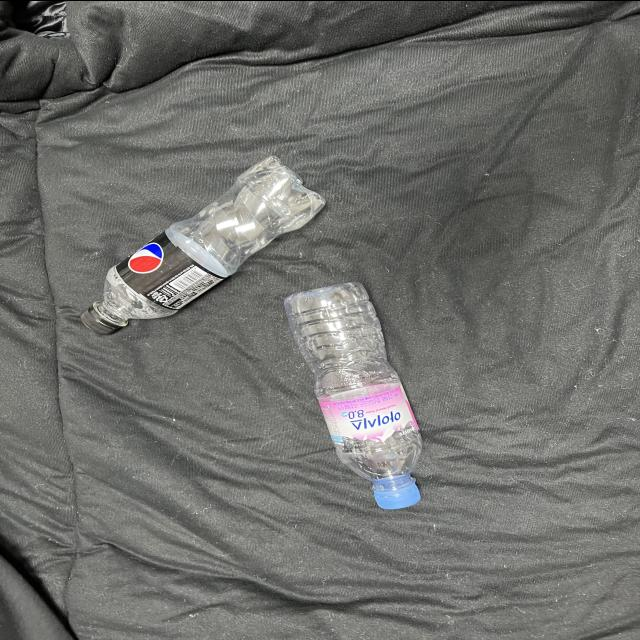寶特瓶: (57, 142, 350, 357), (271, 267, 453, 522)
